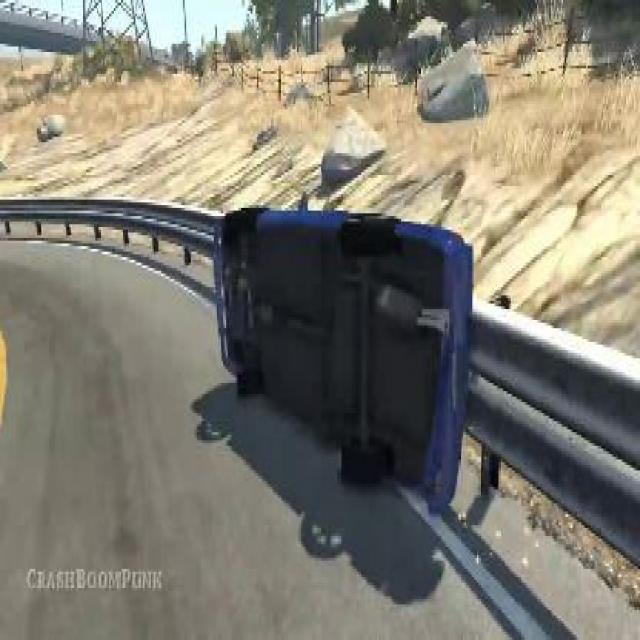accident: (206, 191, 477, 517)
